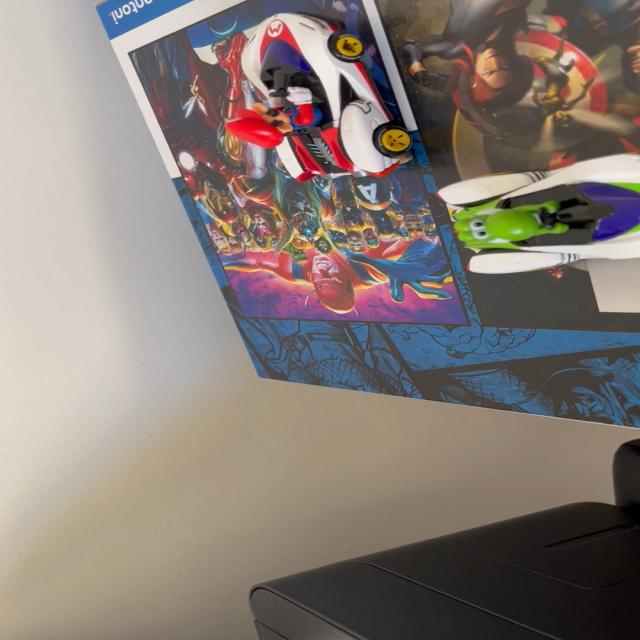mario: (214, 6, 428, 194)
yoshi: (430, 153, 640, 292)
